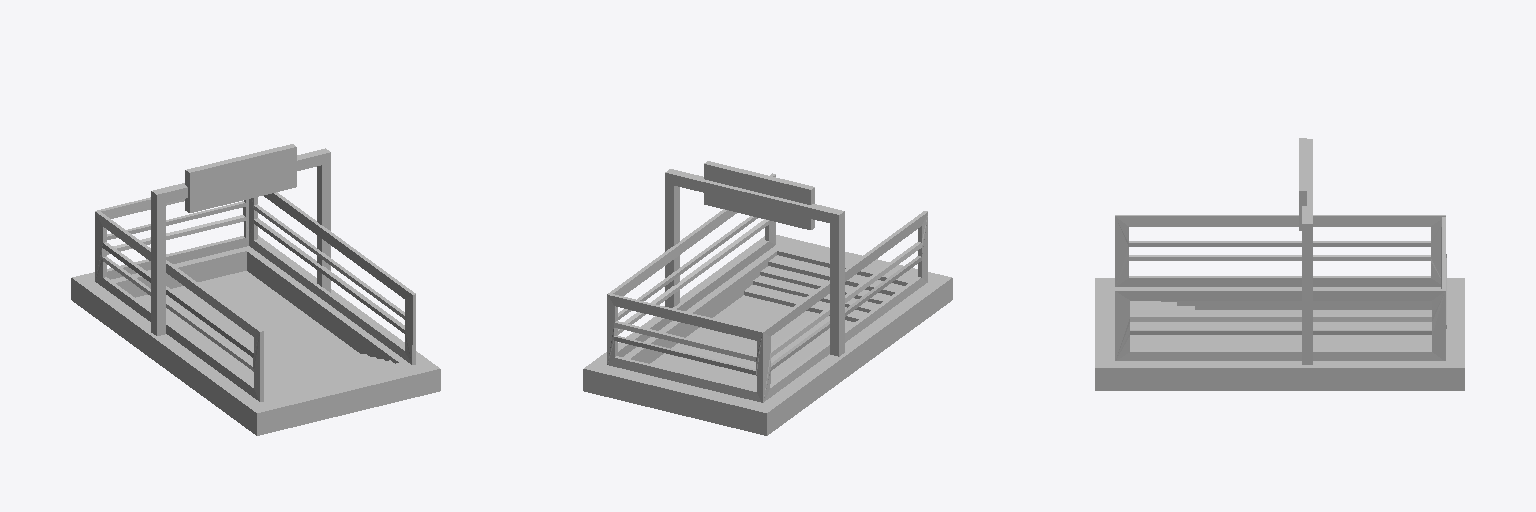
The model's file is SM_Env_SubwayEntrance_01.obj.
3 renders of one model, left to right at view 1: azimuth 30°, elevation 25°; view 2: azimuth 150°, elevation 25°; view 3: azimuth 270°, elevation 25°, orthographic.
Parts seen in each view (by area): view 1: SM_Env_SubwayEntrance_01:Mesh; view 2: SM_Env_SubwayEntrance_01:Mesh; view 3: SM_Env_SubwayEntrance_01:Mesh.
Part boxes in pixels (bbox=[...]): SM_Env_SubwayEntrance_01:Mesh: bbox=[71, 144, 440, 435]; SM_Env_SubwayEntrance_01:Mesh: bbox=[583, 161, 952, 435]; SM_Env_SubwayEntrance_01:Mesh: bbox=[1095, 138, 1464, 390].
Bounding box in the file's own units: 3.93 × 3.68 × 6.88.